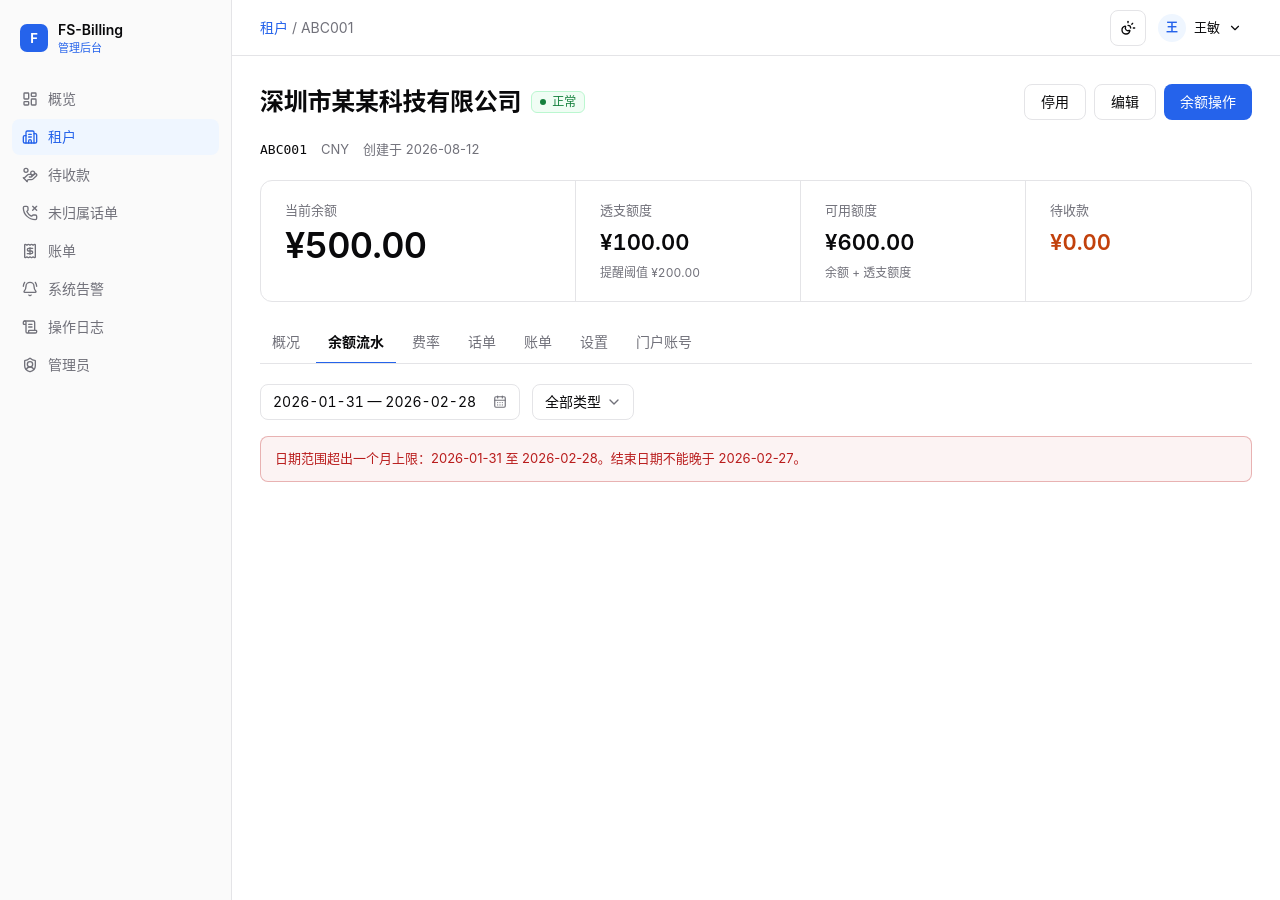
ledger tab filters › explains an overlong URL range and does not request it
The width and height of the screenshot is (1280, 900).
Expected: the message reads "日期范围超出一个月上限：2026-01-31 至 2026-02-28。结束日期不能晚于 2026-02-27。", top-left (260, 436), bottom-right (1252, 482)
Click the button "2026-01-31 — 2026-02-28" at x=390, y=402, box top-left (260, 384), bottom-right (520, 420)
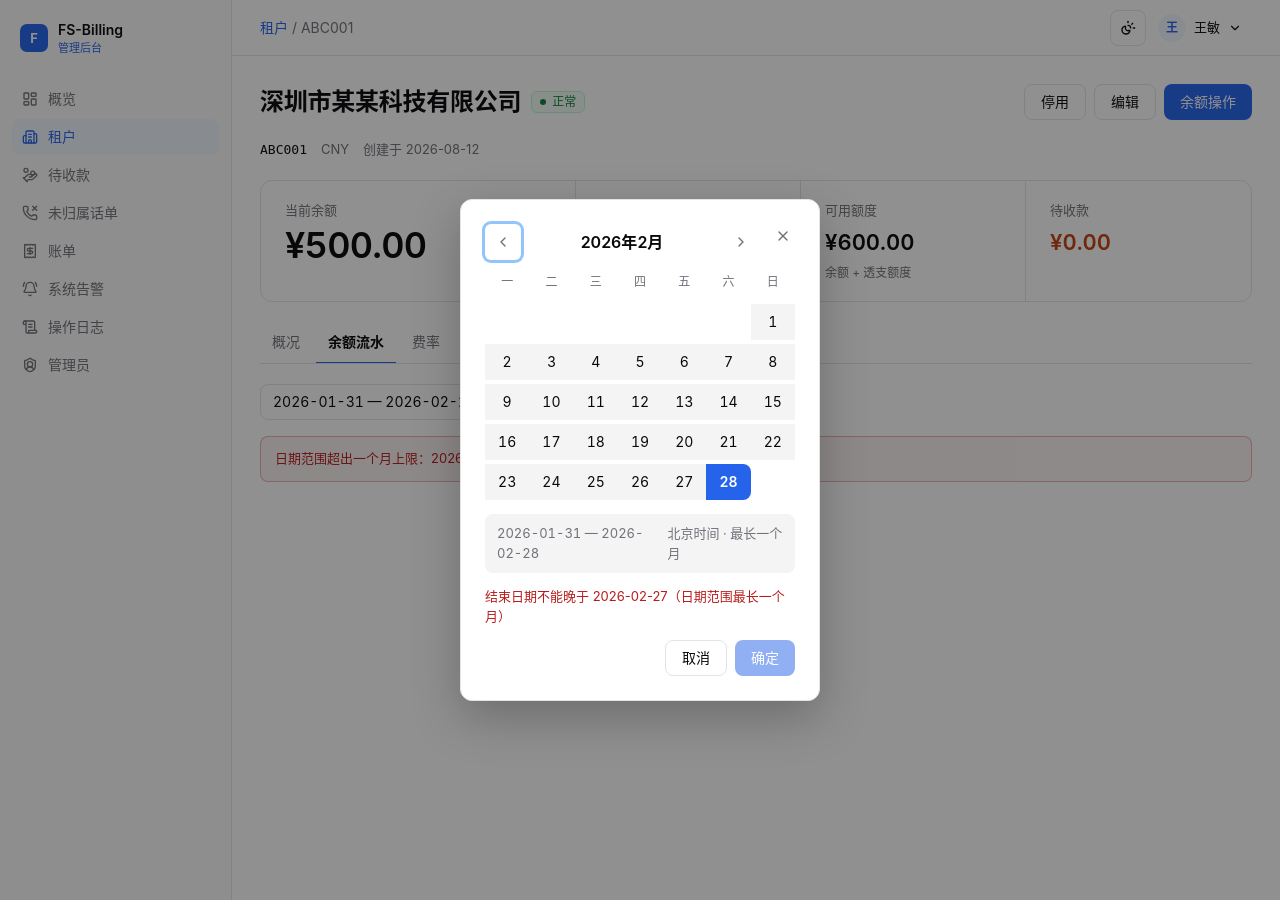
Now the message reads "结束日期不能晚于 2026-02-27（日期范围最长一个月）", box top-left (485, 588), bottom-right (785, 624)
Now the button "确定" is disabled, box top-left (735, 640), bottom-right (795, 676)
